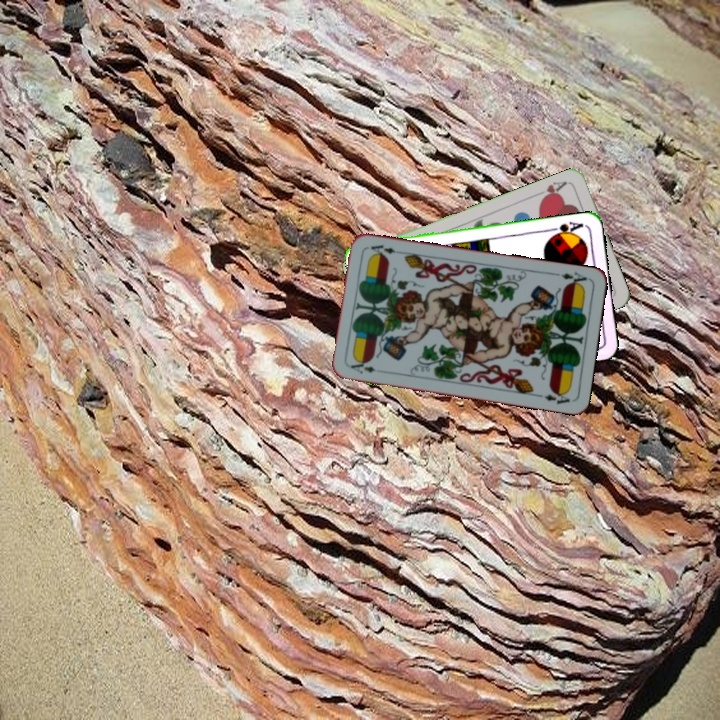EA: (557, 268, 591, 289), (347, 357, 378, 377)
HA: (536, 177, 570, 204)
SA: (546, 217, 585, 240)
